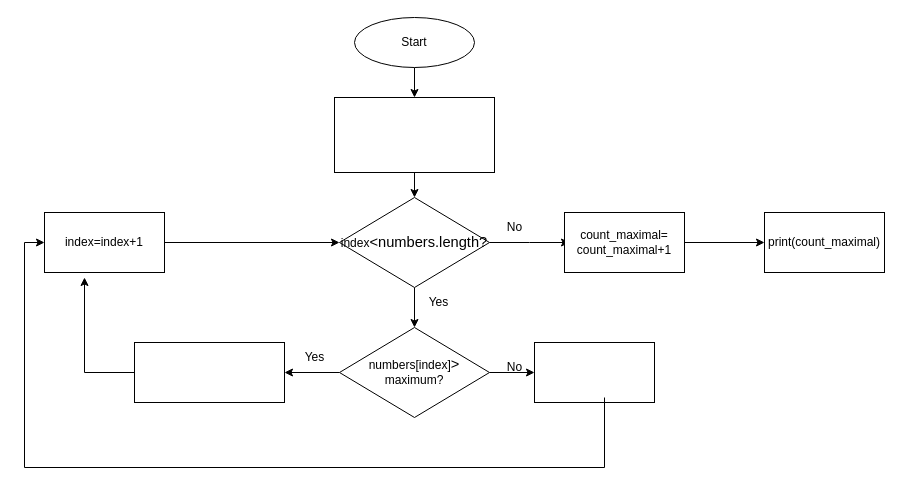
The diagram is 902 pixels wide and 493 high, and some of its shapes have lost their labels. The shapes that lost their labels are listed below. From the top down, each one's centre as x and y in pixels, then its label:
At (414,134): "numbers=[1,8,3,8,2,6,8,8] index=0 maximum=numbers[index] count_maximal=0".
At (209,372): "maximum=numbers[index] count_maximal=1".
At (594,372): "numbers[index]= maximum".
